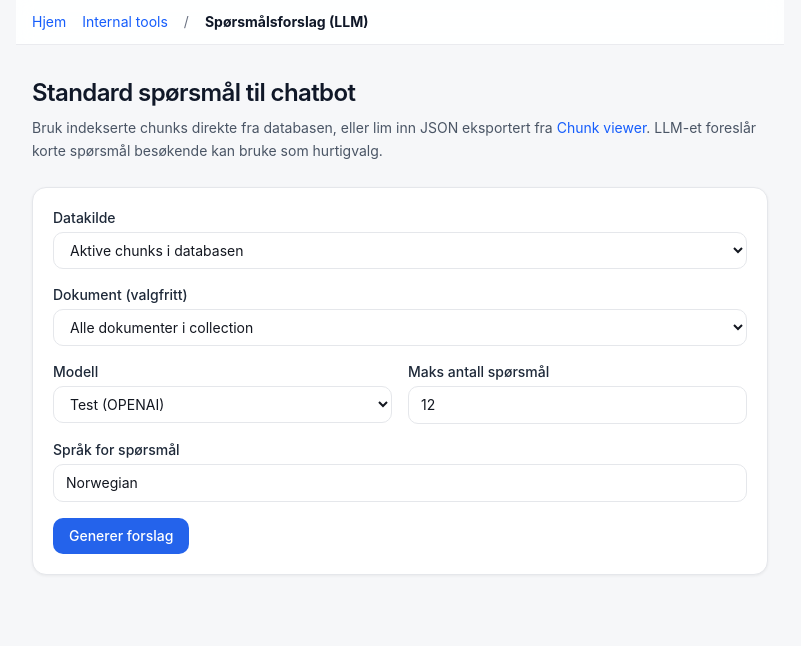
it: Admin CRUD views (integration-style) › AdminQuestionSuggestionsView surfaces 400 message from API
What coordinates should you click on to do the following:
click the button "Generer forslag"
I would click on:
 (121, 536)
Its box is [53, 518, 189, 554].
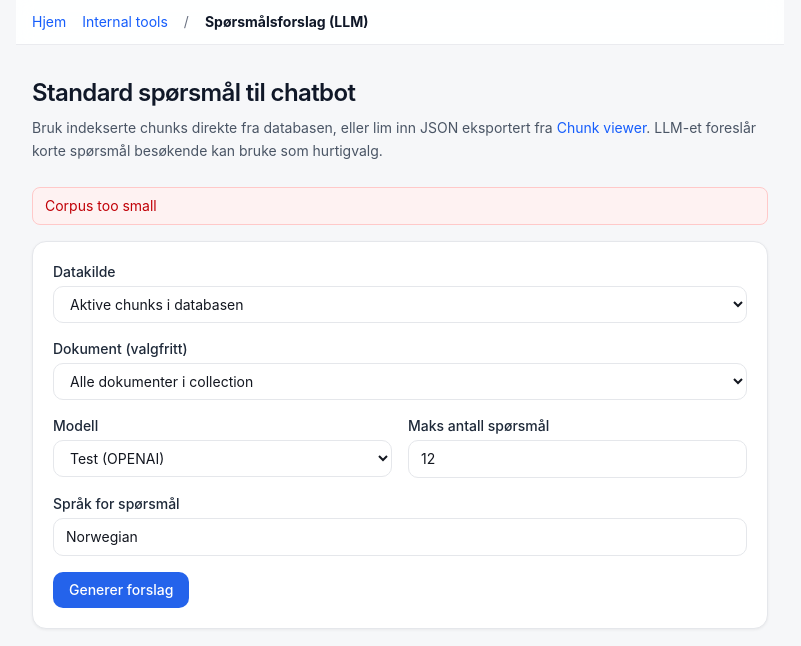
Expected: the text "Corpus too small" is shown, [32, 186, 768, 224]
